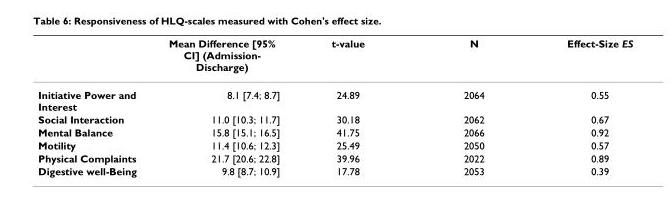table: (37, 36, 632, 176)
table column: (152, 36, 305, 176), (37, 36, 152, 176), (413, 36, 524, 176), (305, 36, 413, 176), (524, 36, 632, 176)
table column header: (37, 36, 632, 80)
table row: (37, 36, 632, 80), (37, 80, 632, 112), (37, 112, 632, 125), (37, 125, 632, 138), (37, 138, 632, 151), (37, 151, 632, 164), (37, 164, 632, 176)
